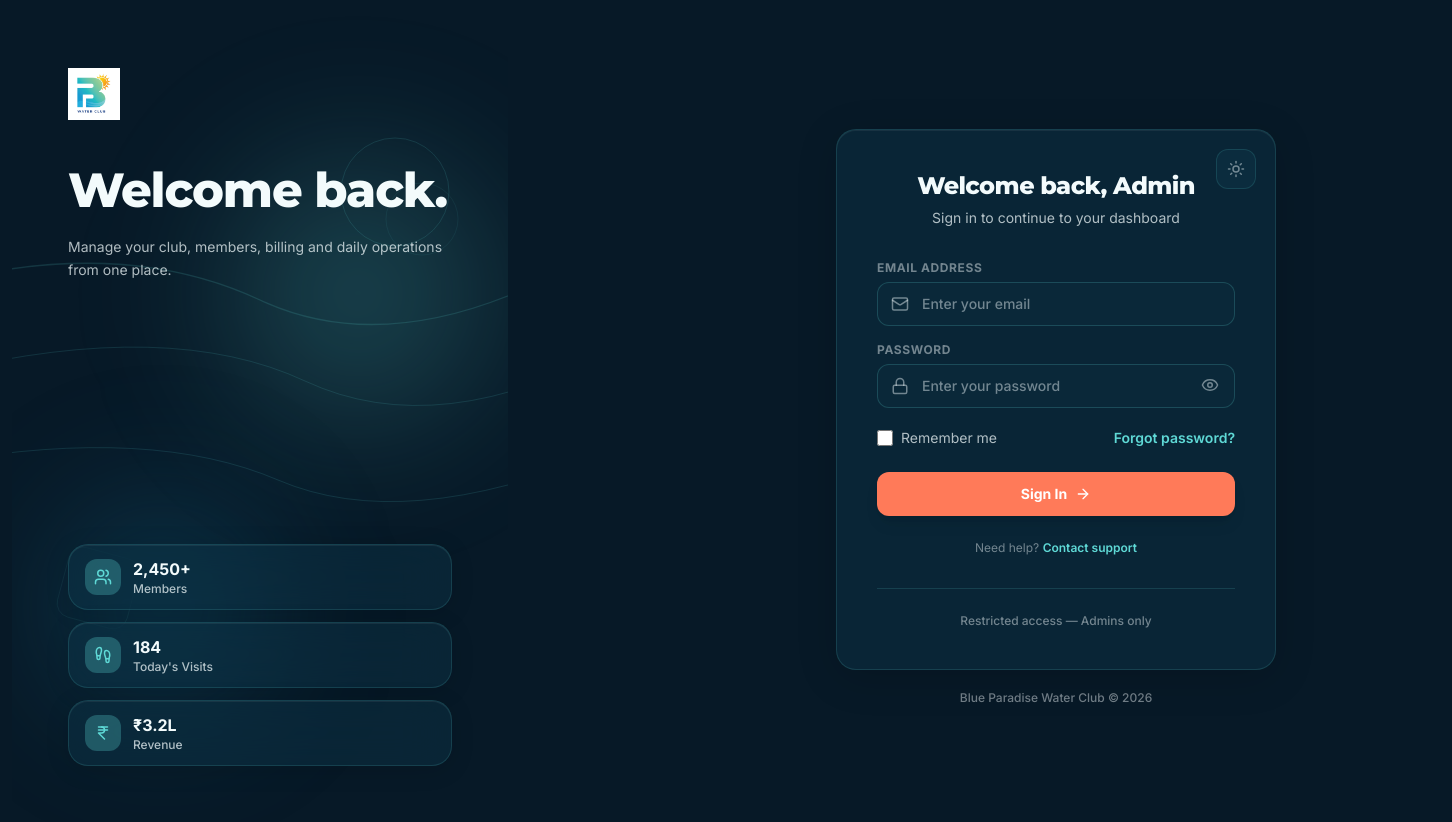
Test: LoginPage › shows an error message when login fails
In the field with placeholder "Enter your email": (1056, 304) [877,282,1235,326], type "admin"
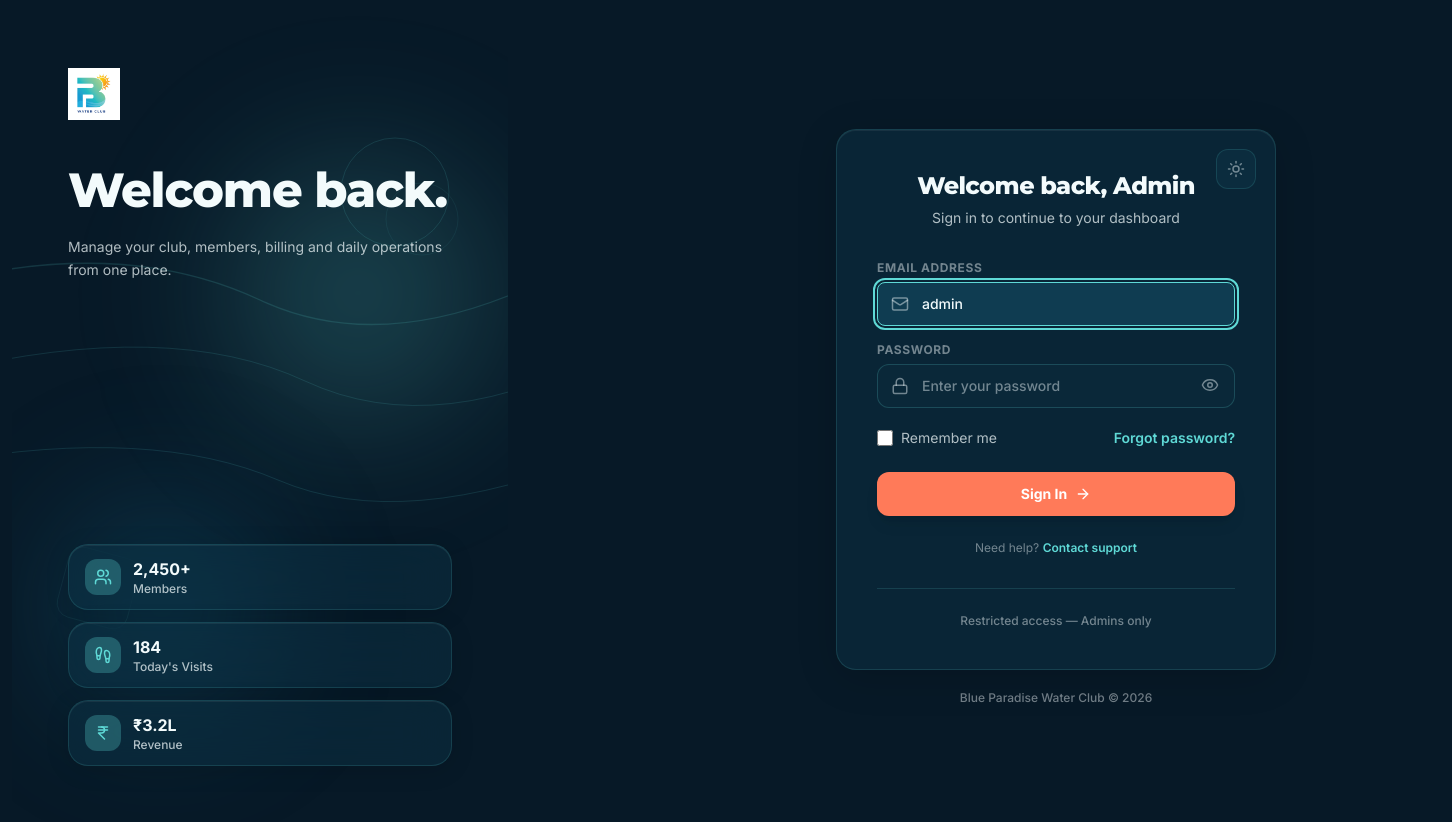
In the password field with placeholder "Enter your password": (1056, 386) [877,364,1235,408], type "wrongpass"
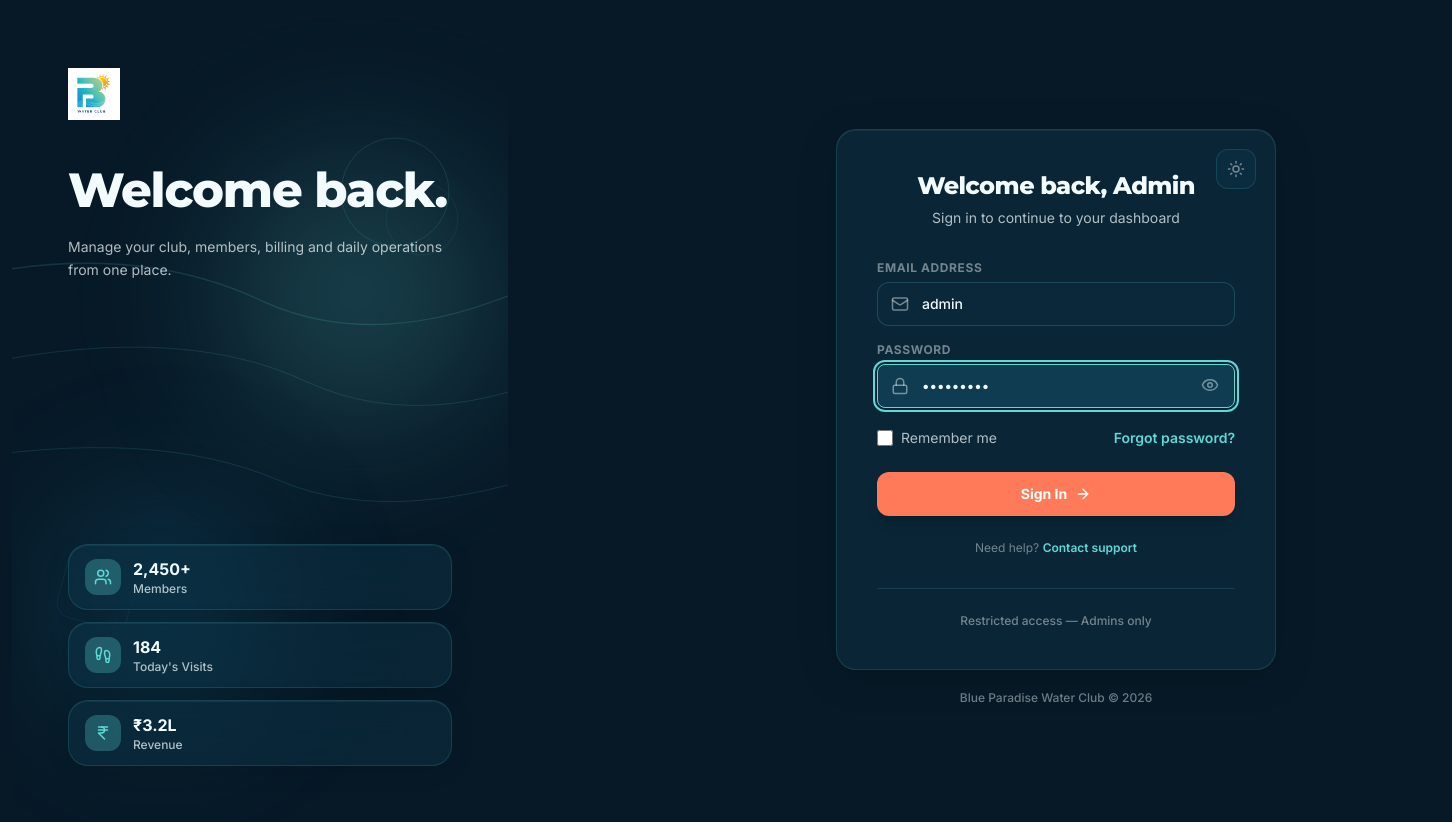
Click the button "Sign In": (1056, 494) [877,472,1235,516]
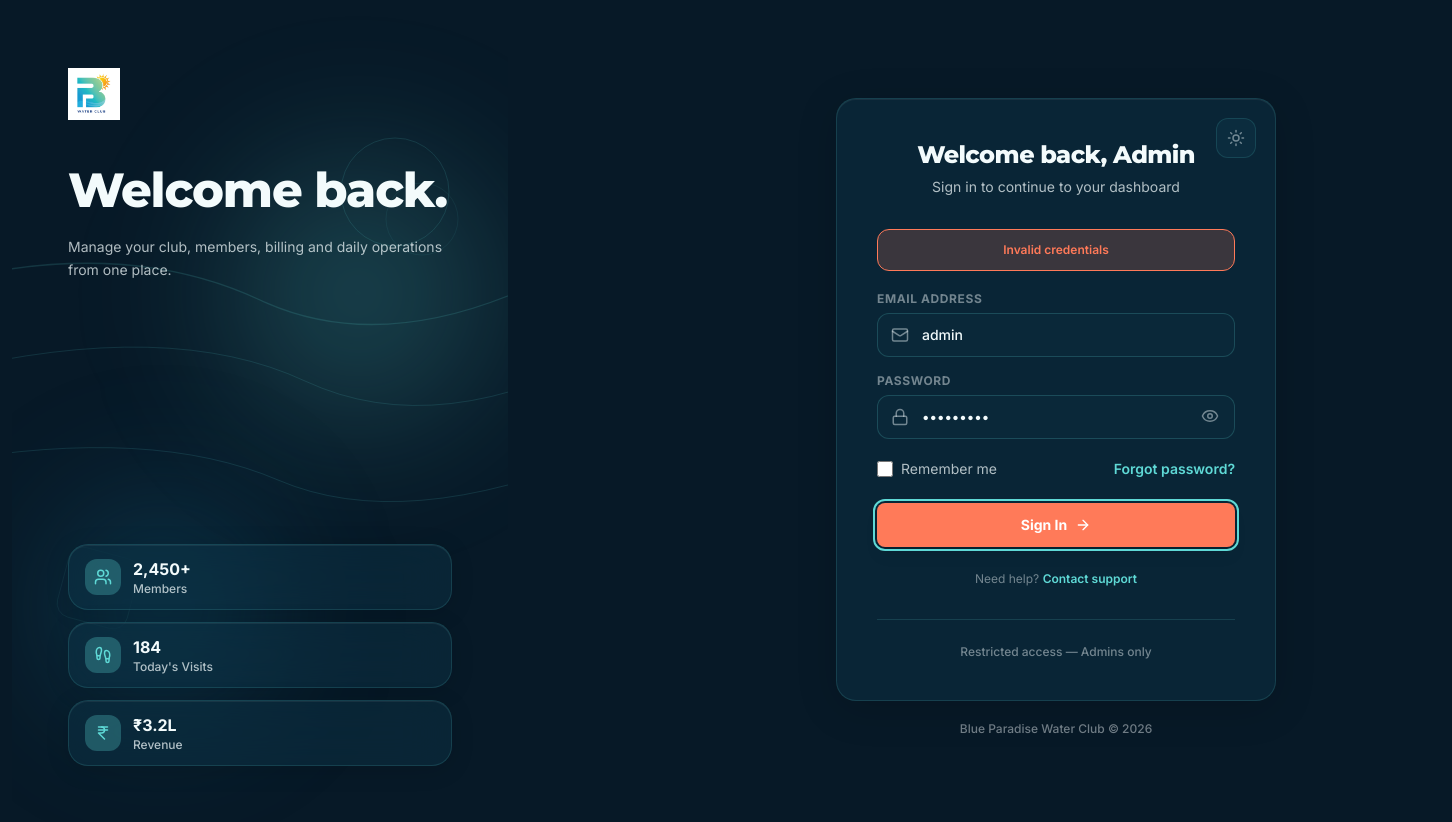
Check: the text "Invalid credentials" is shown, box [877,228,1235,270]
